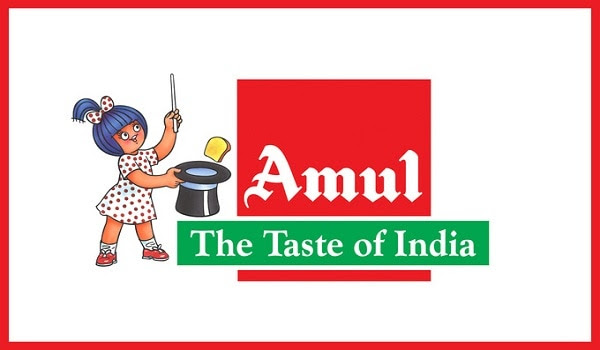Amul: (237, 145, 426, 211)
